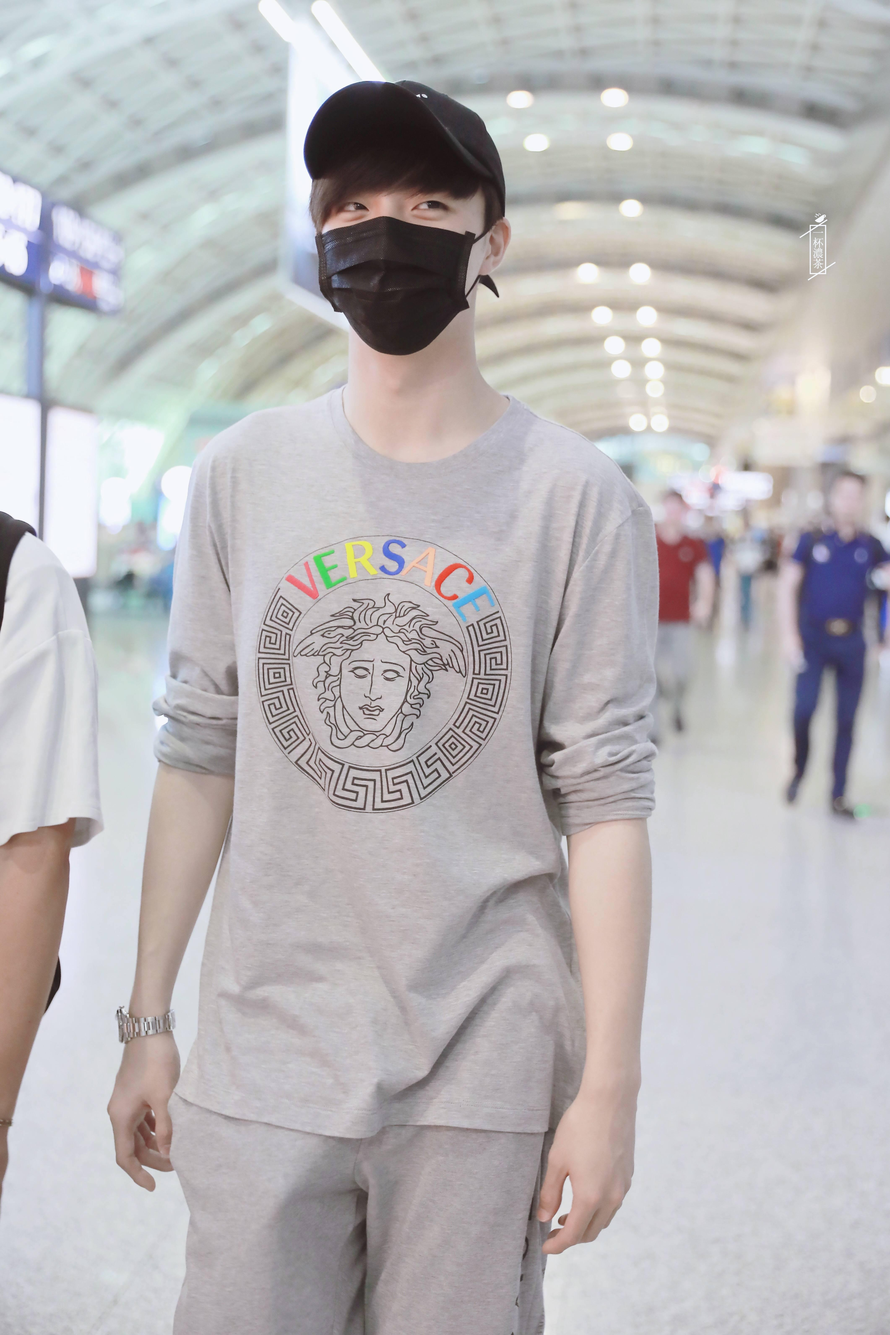OK: (316, 159, 472, 356)
